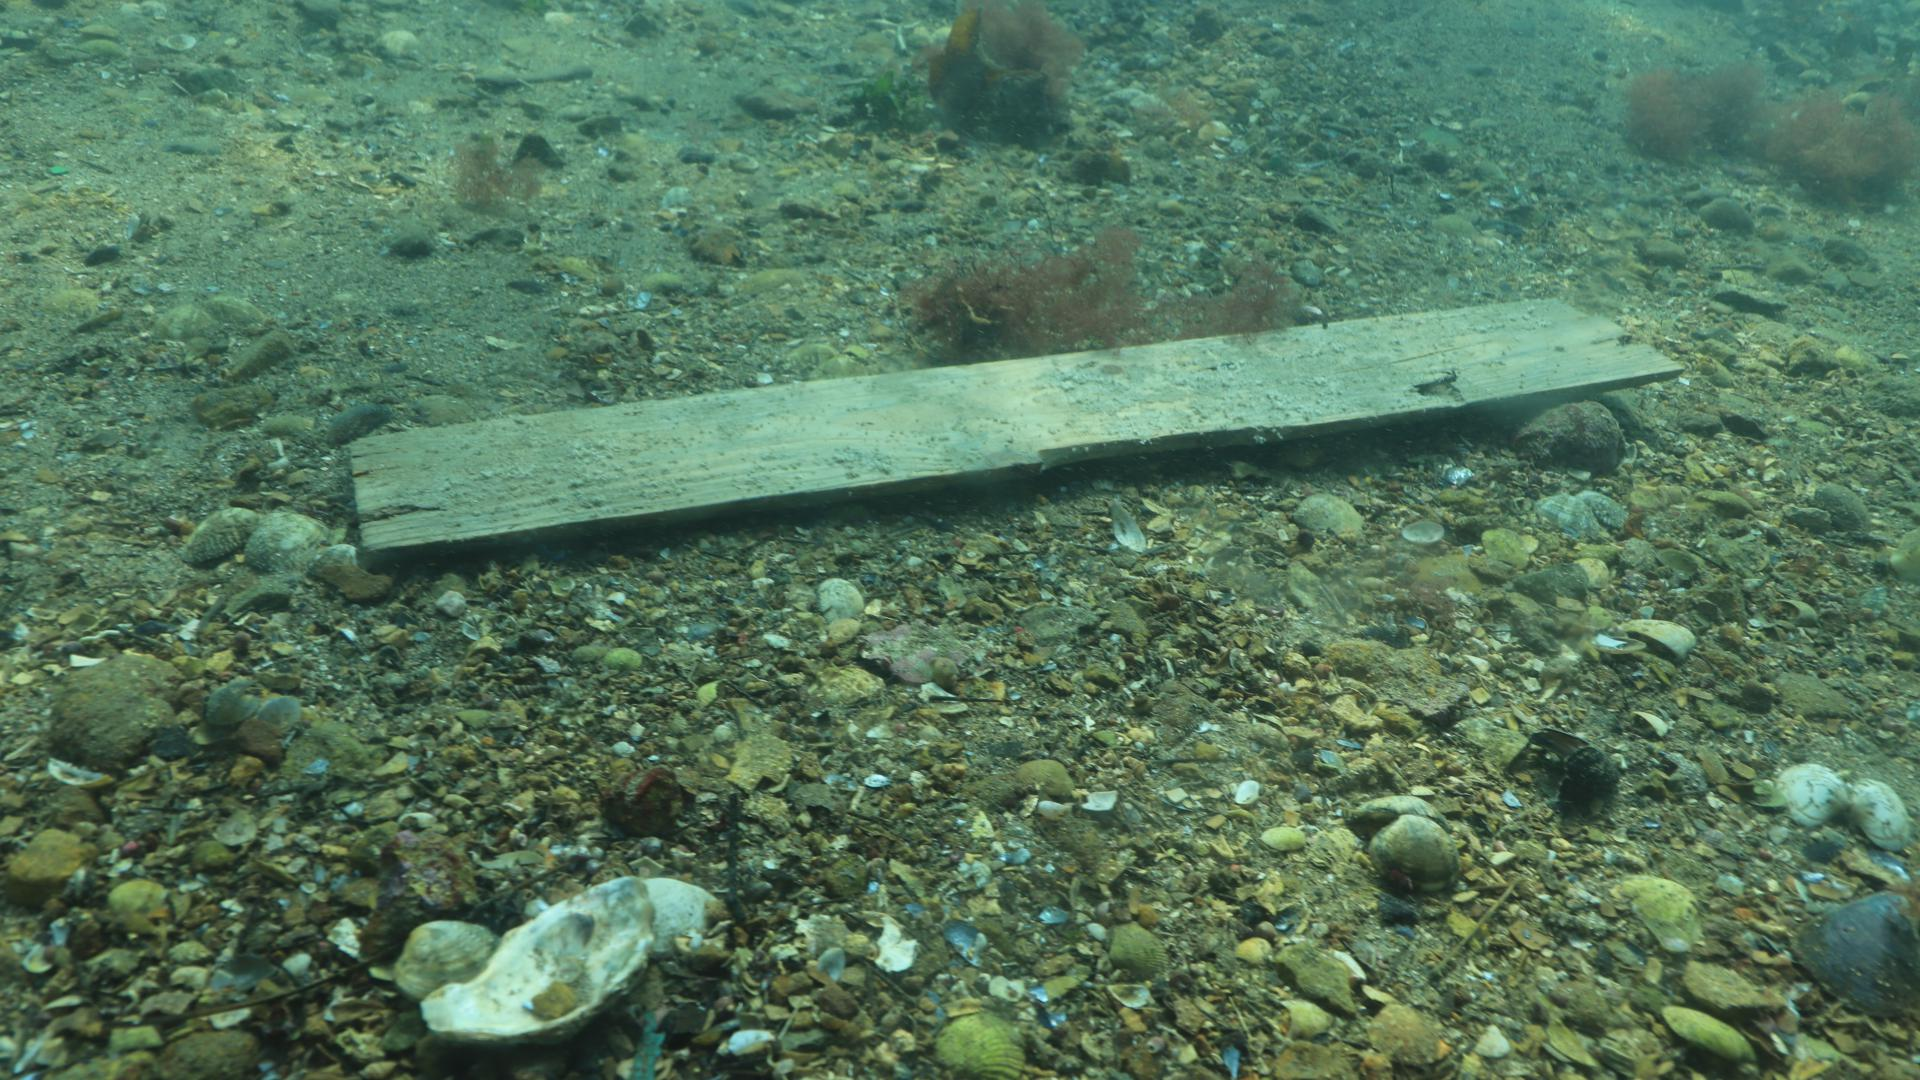wood: (345, 294, 1691, 567)
